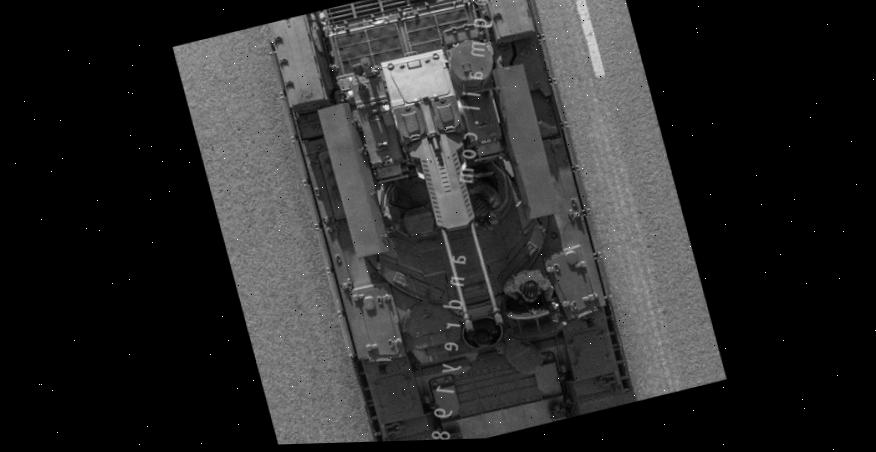armored_car: (258, 0, 642, 444)
